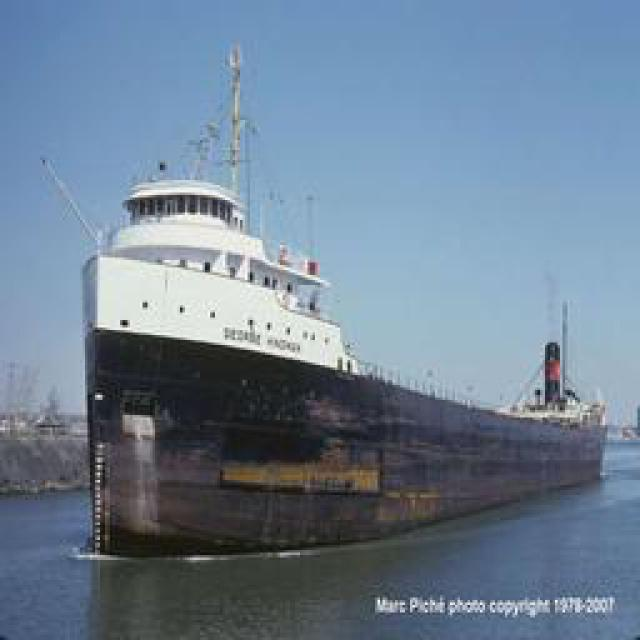Ship: (79, 60, 602, 555)
